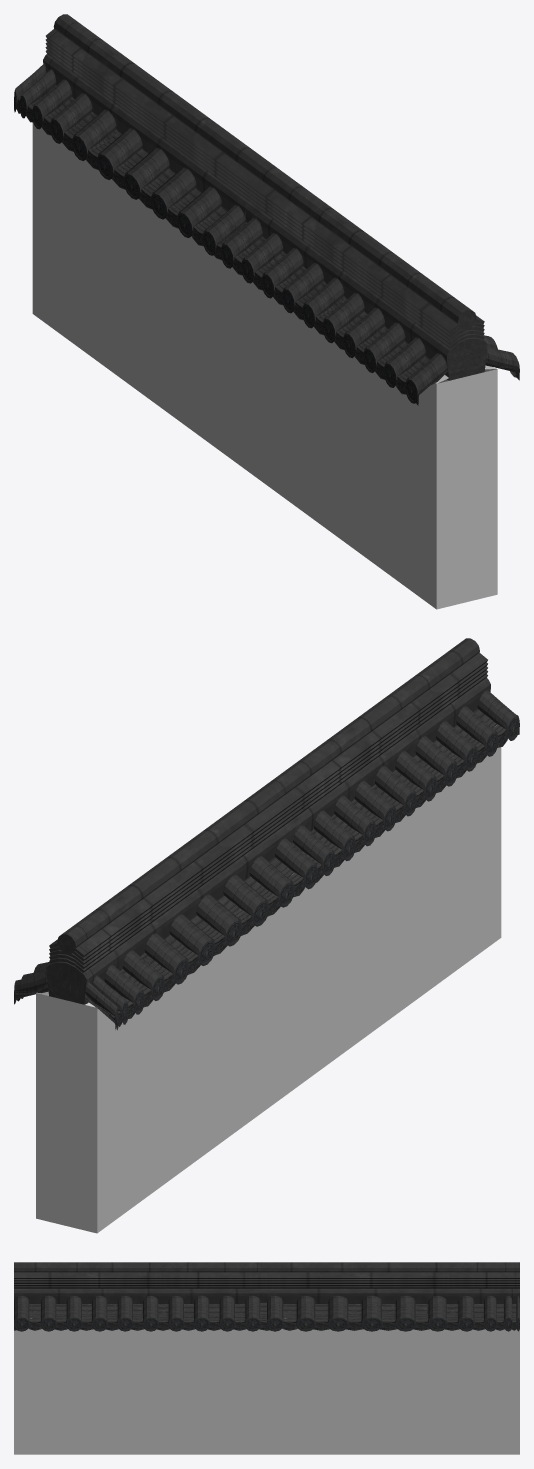
File: SM_JSH_HG_StoneWallH_Splines_11.fbx
3 renders of one model, top to bottom at view 1: azimuth 30°, elevation 25°; view 2: azimuth 150°, elevation 25°; view 3: azimuth 270°, elevation 25°, orthographic. The views are drawn at different scales.
Parts seen in each view (by area): view 1: SM_JSH_HG_StoneWallH_Splines_11; view 2: SM_JSH_HG_StoneWallH_Splines_11; view 3: SM_JSH_HG_StoneWallH_Splines_11.
Part boxes in pixels (x1=…): SM_JSH_HG_StoneWallH_Splines_11: x1=14, y1=14, x2=519, y2=609; SM_JSH_HG_StoneWallH_Splines_11: x1=14, y1=638, x2=519, y2=1233; SM_JSH_HG_StoneWallH_Splines_11: x1=14, y1=1262, x2=519, y2=1454.
Size of the model in its own units: 65.49 by 447 by 178.
